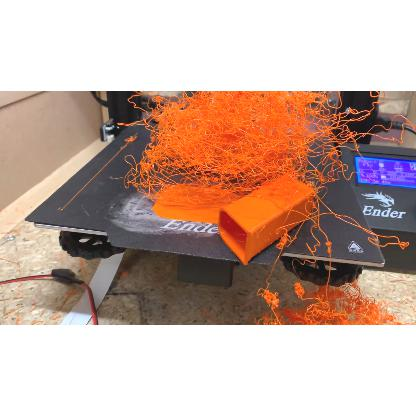fail: (126, 91, 344, 195), (250, 282, 398, 324)
